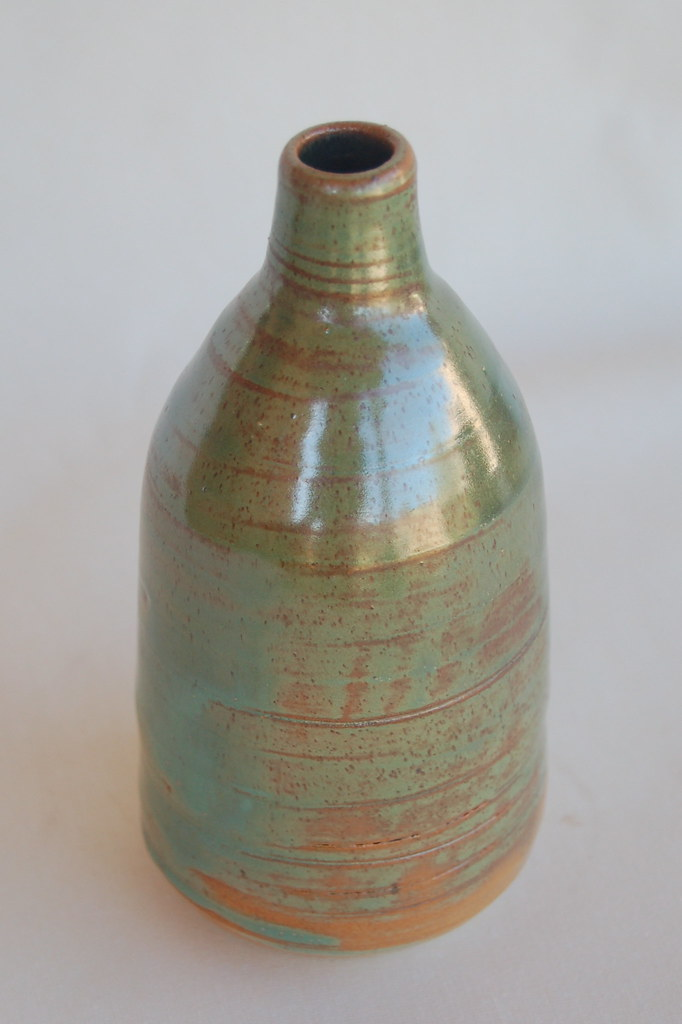bottle: (102, 61, 600, 996)
